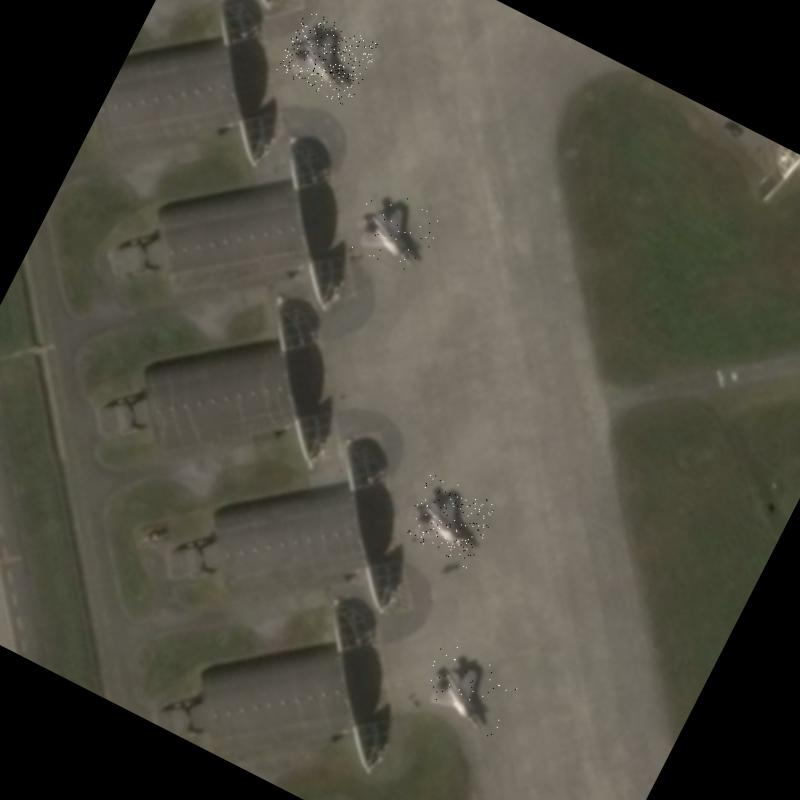A15: (412, 640, 522, 742), (274, 7, 380, 108), (399, 471, 499, 569), (344, 183, 443, 280)
